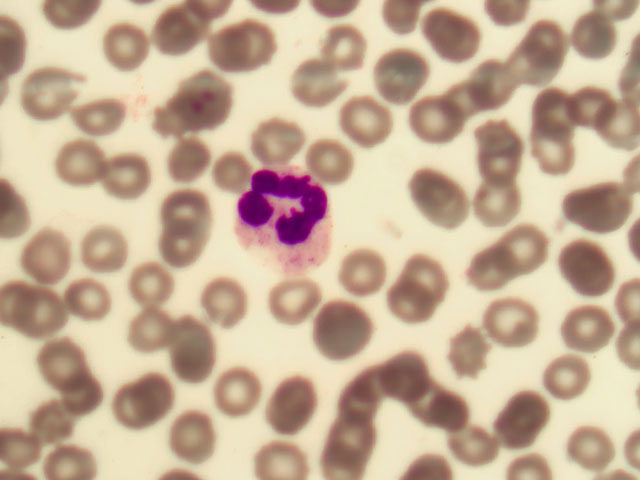RBC: (98, 18, 154, 76), (151, 9, 207, 67), (205, 15, 261, 73), (178, 69, 234, 127), (85, 84, 141, 142), (24, 63, 80, 121), (44, 132, 100, 190), (95, 149, 151, 207), (162, 137, 218, 195), (207, 144, 263, 202), (239, 103, 295, 161), (304, 123, 360, 181), (330, 96, 386, 154), (284, 58, 340, 116), (317, 11, 373, 69), (374, 44, 430, 102), (423, 9, 479, 67), (398, 92, 454, 150), (429, 76, 485, 134), (463, 51, 519, 109), (507, 30, 563, 88), (568, 13, 624, 71), (570, 81, 626, 139), (528, 82, 584, 140), (527, 140, 583, 198), (466, 117, 522, 175), (463, 186, 519, 244), (407, 167, 463, 225), (449, 239, 505, 297), (499, 222, 555, 280), (559, 238, 615, 296), (571, 183, 627, 241), (552, 295, 608, 353), (541, 347, 597, 405), (488, 401, 544, 459), (449, 422, 505, 480), (434, 385, 490, 443), (399, 368, 455, 426), (367, 347, 423, 405), (336, 381, 392, 439), (264, 375, 320, 433), (315, 300, 371, 358), (336, 246, 392, 304), (388, 278, 444, 336), (403, 252, 459, 310), (262, 277, 318, 335), (199, 272, 255, 330), (126, 251, 182, 309), (150, 222, 206, 280), (161, 185, 217, 243), (80, 222, 136, 280), (54, 265, 110, 323), (24, 286, 80, 344), (30, 221, 86, 279), (38, 340, 94, 398), (108, 375, 164, 433), (123, 298, 179, 356), (168, 320, 224, 378), (217, 370, 273, 428), (162, 407, 218, 465), (560, 422, 616, 480), (30, 392, 86, 450), (429, 326, 485, 384), (474, 293, 530, 351), (1, 413, 56, 471)
WBC: (232, 169, 336, 267)
